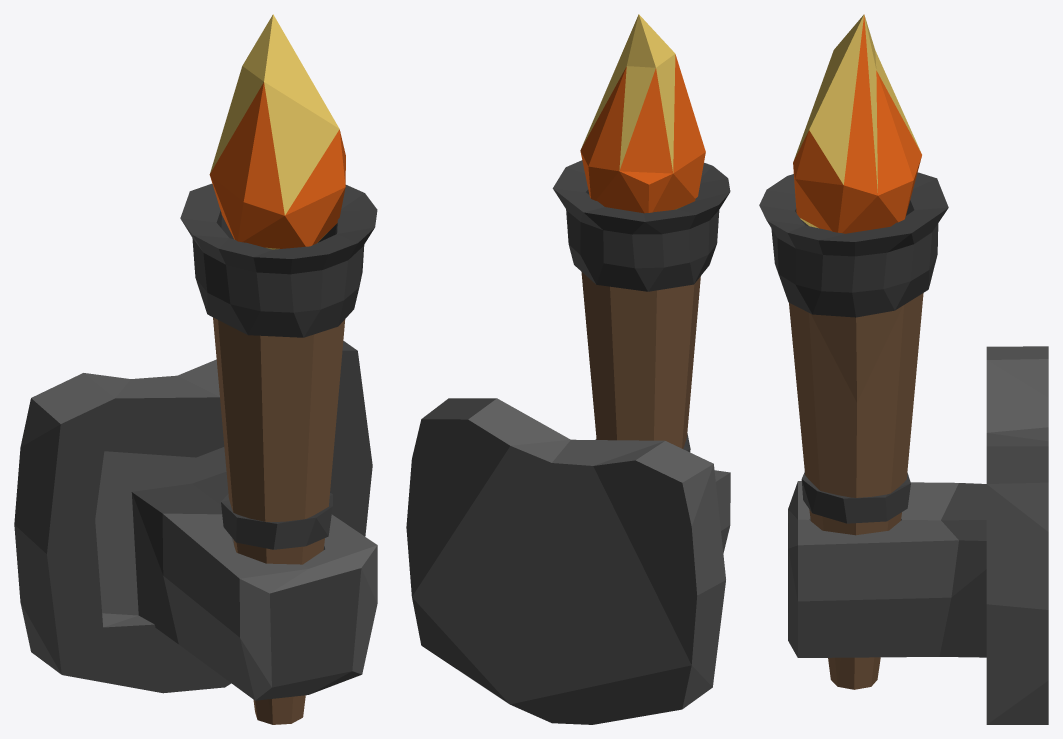
The model's file is Antorcha.fbx.
3 renders of one model, left to right at view 1: azimuth 30°, elevation 25°; view 2: azimuth 150°, elevation 25°; view 3: azimuth 270°, elevation 25°, orthographic. The views are drawn at different scales.
Parts seen in each view (by area): view 1: Soporte, Antorcha, Fuego; view 2: Soporte, Antorcha, Fuego; view 3: Soporte, Antorcha, Fuego.
Part boxes in pixels (<box>): Soporte: <box>14,341,377,700</box>; Antorcha: <box>180,183,377,724</box>; Fuego: <box>209,14,345,249</box>; Soporte: <box>406,398,730,724</box>; Antorcha: <box>552,160,730,452</box>; Fuego: <box>580,14,705,213</box>; Soporte: <box>788,346,1048,724</box>; Antorcha: <box>759,172,948,689</box>; Fuego: <box>793,14,921,233</box>.
Size of the model in its own units: 70.04 by 149 by 56.46.
